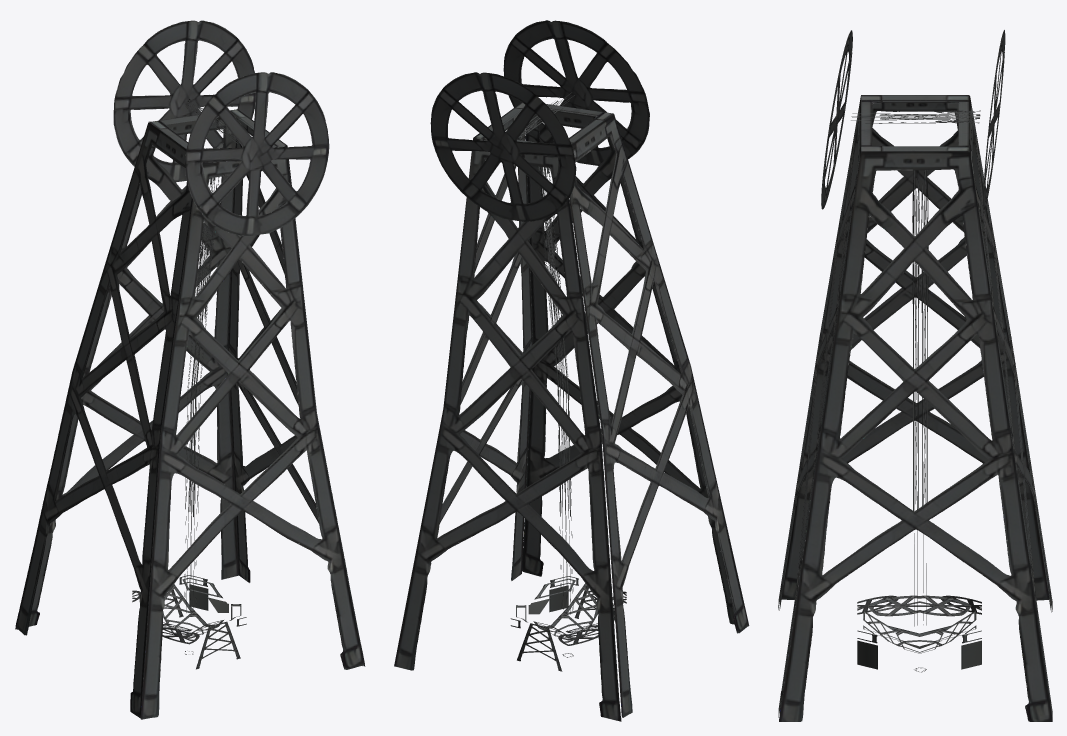
Rendered from oilrigburn.gltf.
3 views of the same model, side by side, from view 1: azimuth 30°, elevation 25°; view 2: azimuth 150°, elevation 25°; view 3: azimuth 270°, elevation 25° (orthographic). The views are drawn at different scales.
Parts seen in each view (by area): view 1: oilrigburn_atomic0; view 2: oilrigburn_atomic0; view 3: oilrigburn_atomic0.
Boxes of the visible parts, x1,y1,x2,y2 form: oilrigburn_atomic0: [15, 20, 365, 719]; oilrigburn_atomic0: [394, 20, 749, 721]; oilrigburn_atomic0: [778, 30, 1052, 721].
Bounding box in the file's own units: 31.62 × 79.48 × 30.27.
Materials: 1 (1 with a texture image).
